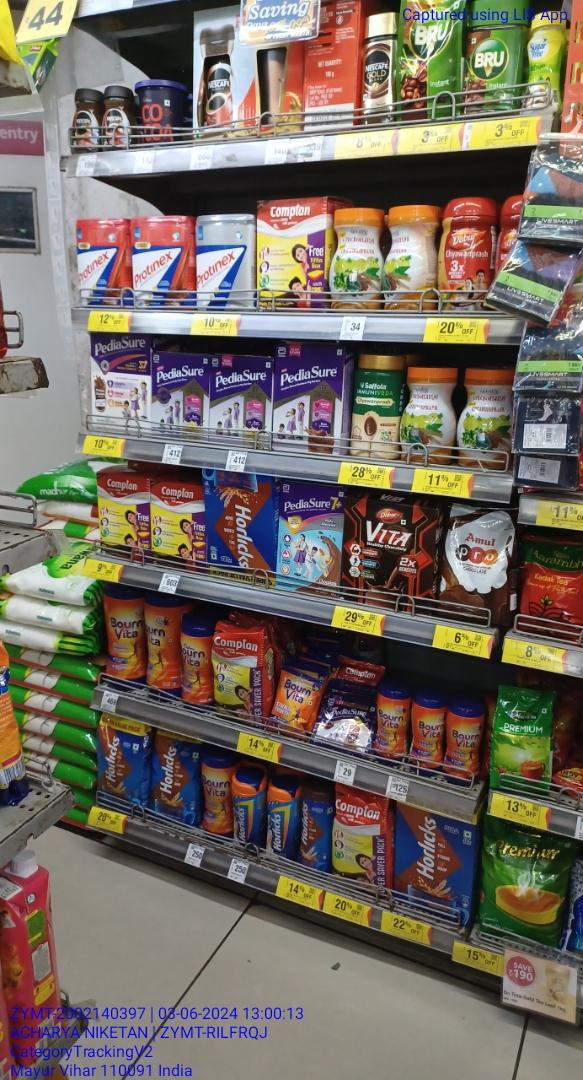BOURN_VITA_1_KG_JAR: (102, 584, 140, 690), (141, 596, 180, 694)
BOURN_VITA_75_G_POUCH: (270, 670, 314, 736)
COMPLAN_RC_POUCH_700_GMS_12: (332, 787, 390, 896), (213, 624, 265, 724)
PEDIASURE_7_PLUS_CHOCOLATE_400_G_PACK: (276, 488, 338, 594)
PEDIASURE_CHOCOLATE_500_G_PACK: (275, 344, 338, 450)
PEDIASURE_VANILLA_500_G_PACK: (213, 353, 270, 450), (153, 350, 210, 439)
PROTINEX_CHOCOLATE_400_G_JAR: (131, 218, 189, 307), (75, 219, 130, 307)
PROTINEX_ORIGINAL_400_G_JAR: (195, 216, 254, 312)
